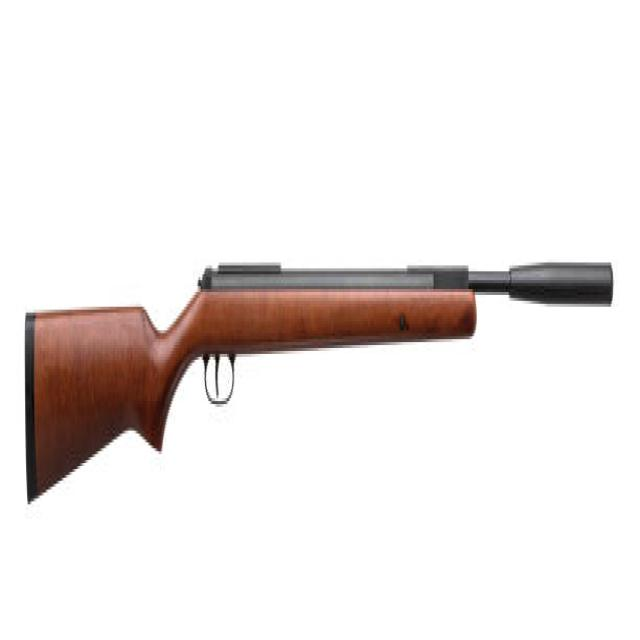rifle: (24, 249, 618, 513)
